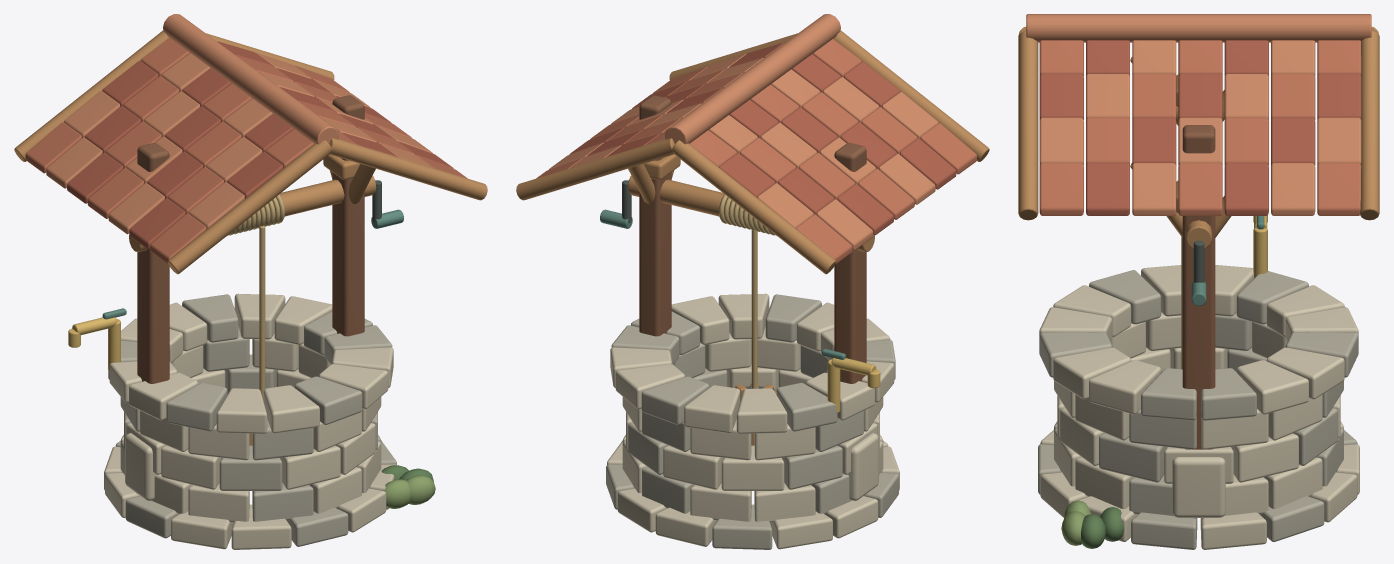
The model's file is cozy_well.glb.
3 renders of one model, left to right at view 1: azimuth 30°, elevation 25°; view 2: azimuth 150°, elevation 25°; view 3: azimuth 270°, elevation 25°, orthographic. The views are drawn at different scales.
Parts seen in each view (by area): view 1: Well_stoneLight, Well_stone, Well_roofLight, Well_roof, Well_roofShade, Well_woodLight, Well_wood, Well_rope, Well_leafLight, Well_brass, Well_teal; view 2: Well_stoneLight, Well_stone, Well_roofLight, Well_roof, Well_roofShade, Well_woodLight, Well_wood, Well_rope, Well_brass, Well_teal; view 3: Well_stoneLight, Well_stone, Well_roofLight, Well_roof, Well_roofShade, Well_woodLight, Well_wood, Well_leaf, Well_leafLight, Well_brass, Well_iron, Well_teal.
Part boxes in pixels (x1=…): Well_stoneLight: x1=104, y1=293, x2=396, y2=549; Well_stone: x1=108, y1=294, x2=396, y2=546; Well_roofLight: x1=46, y1=14, x2=433, y2=234; Well_roof: x1=25, y1=38, x2=467, y2=263; Well_roofShade: x1=67, y1=41, x2=453, y2=249; Well_woodLight: x1=14, y1=30, x2=487, y2=445; Well_wood: x1=137, y1=95, x2=364, y2=383; Well_rope: x1=227, y1=194, x2=284, y2=400; Well_leafLight: x1=382, y1=475, x2=435, y2=508; Well_brass: x1=68, y1=317, x2=120, y2=371; Well_teal: x1=102, y1=209, x2=403, y2=319; Well_stoneLight: x1=607, y1=293, x2=899, y2=549; Well_stone: x1=606, y1=294, x2=898, y2=549; Well_roofLight: x1=549, y1=14, x2=938, y2=250; Well_roof: x1=536, y1=39, x2=976, y2=263; Well_roofShade: x1=569, y1=42, x2=956, y2=235; Well_woodLight: x1=516, y1=30, x2=989, y2=445; Well_wood: x1=639, y1=95, x2=866, y2=383; Well_rope: x1=719, y1=194, x2=776, y2=388; Well_brass: x1=827, y1=358, x2=880, y2=413; Well_teal: x1=600, y1=209, x2=845, y2=359; Well_stoneLight: x1=1039, y1=265, x2=1359, y2=549; Well_stone: x1=1038, y1=270, x2=1358, y2=549; Well_roofLight: x1=1026, y1=14, x2=1371, y2=215; Well_roof: x1=1039, y1=40, x2=1361, y2=215; Well_roofShade: x1=1039, y1=40, x2=1361, y2=215; Well_woodLight: x1=1018, y1=26, x2=1379, y2=248; Well_wood: x1=1182, y1=125, x2=1215, y2=449; Well_leaf: x1=1081, y1=507, x2=1124, y2=548; Well_leafLight: x1=1061, y1=500, x2=1091, y2=545; Well_brass: x1=1253, y1=215, x2=1267, y2=277; Well_iron: x1=1193, y1=240, x2=1204, y2=282; Well_teal: x1=1191, y1=216, x2=1264, y2=306.
Bounding box in the file's own units: 1.98 × 2.51 × 1.76.
